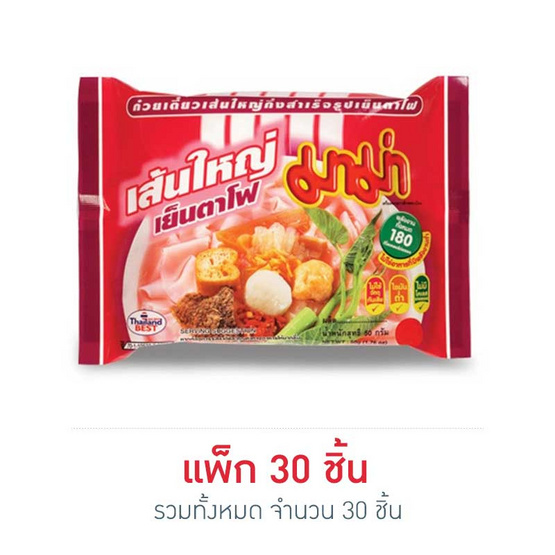Snack: (60, 67, 482, 373)
